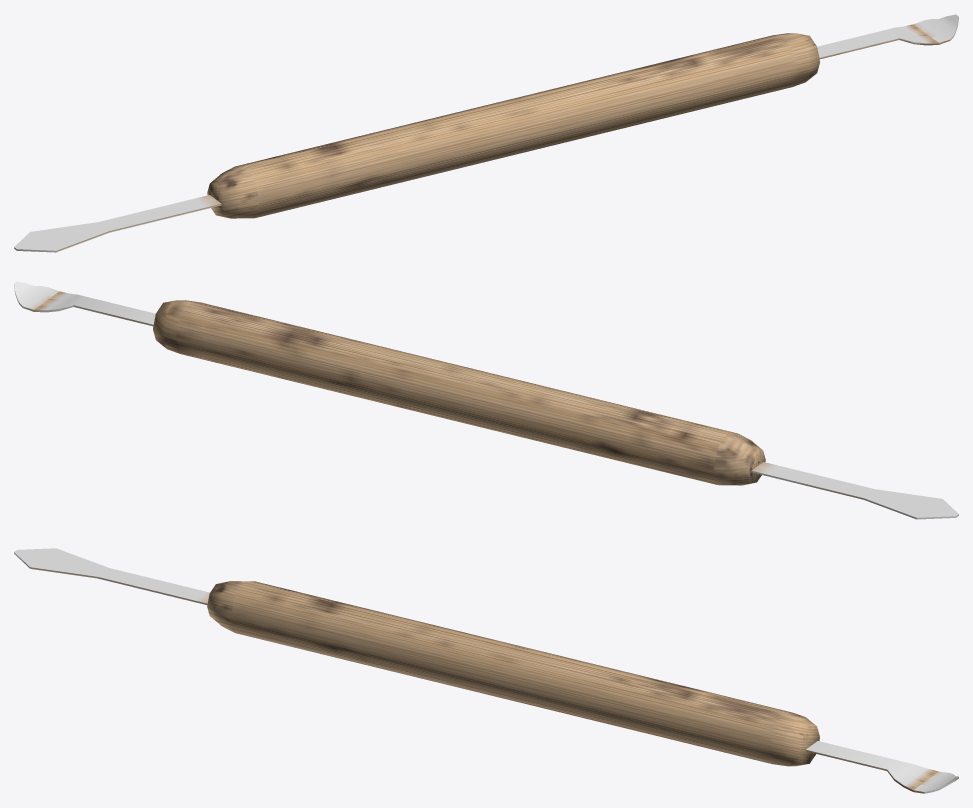
File: Scalpel2.fbx
3 views of the same model, one above another, from view 1: azimuth 30°, elevation 25°; view 2: azimuth 150°, elevation 25°; view 3: azimuth 330°, elevation 25° (orthographic).
Parts seen in each view (by area): view 1: Scalpel2; view 2: Scalpel2; view 3: Scalpel2.
Part boxes in pixels (x1,y1,x2,y2): Scalpel2: [14, 14, 958, 252]; Scalpel2: [14, 281, 958, 519]; Scalpel2: [14, 548, 958, 793].
Size of the model in its own units: 0.3912 by 0.0206 by 0.0206.
